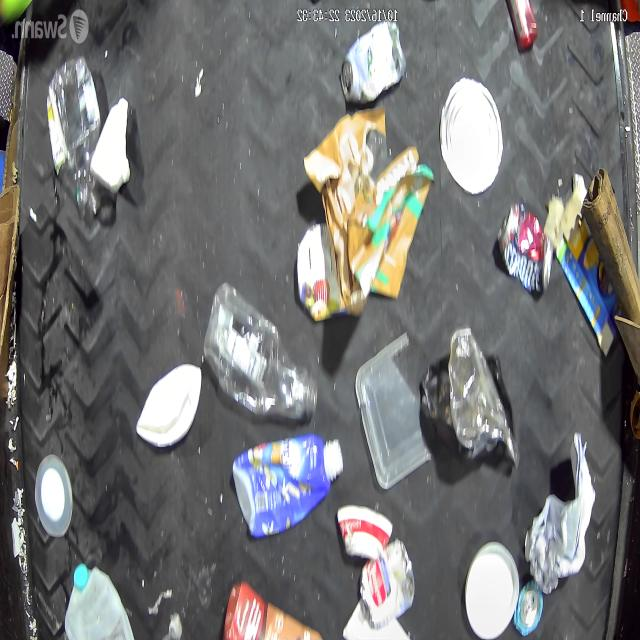can: (496, 202, 555, 295), (341, 19, 406, 103), (360, 538, 416, 629), (514, 582, 545, 640)
milk_jug: (61, 562, 133, 640)
non_white_jug: (235, 434, 343, 541), (220, 580, 326, 640)
plastic_bottle: (205, 283, 313, 419), (48, 61, 102, 212)
